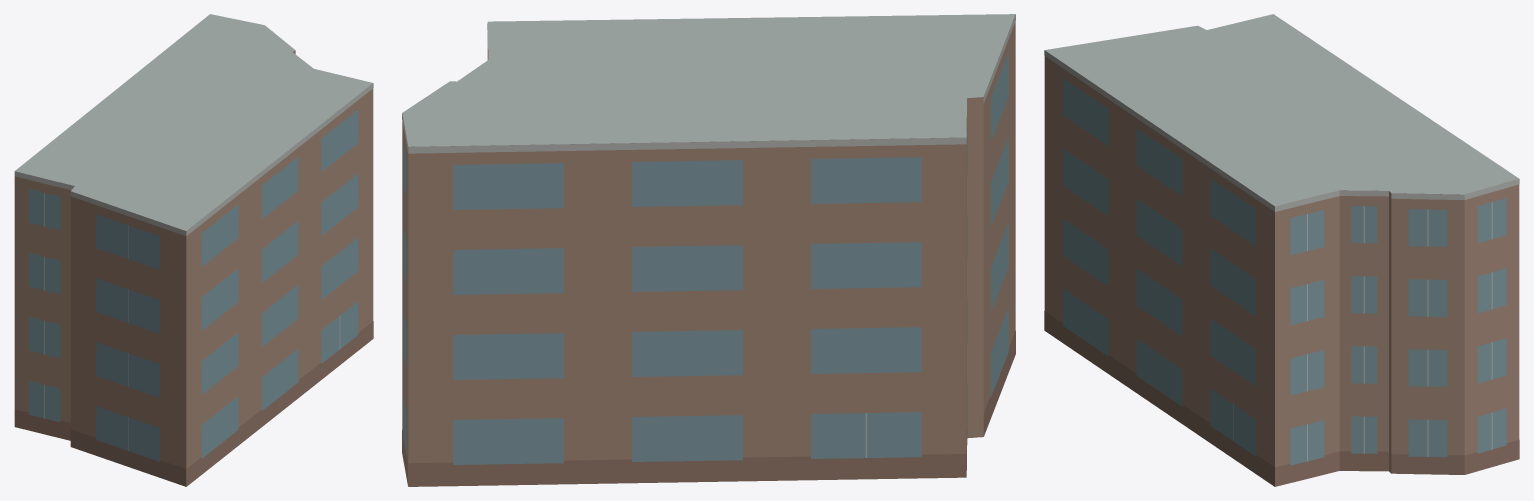
Rendered from survey-upis-32601447.glb.
3 renders of one model, left to right at view 1: azimuth 30°, elevation 25°; view 2: azimuth 150°, elevation 25°; view 3: azimuth 270°, elevation 25°, orthographic. The views are drawn at different scales.
Parts seen in each view (by area): view 1: survey-upis-32601447.tmp; view 2: survey-upis-32601447.tmp; view 3: survey-upis-32601447.tmp.
Part boxes in pixels (left/top/right/bottom): survey-upis-32601447.tmp: left=14, top=14, right=373, bottom=486; survey-upis-32601447.tmp: left=402, top=14, right=1015, bottom=486; survey-upis-32601447.tmp: left=1044, top=14, right=1519, bottom=486.
Bounding box in the file's own units: 17.96 × 12.2 × 18.73.
